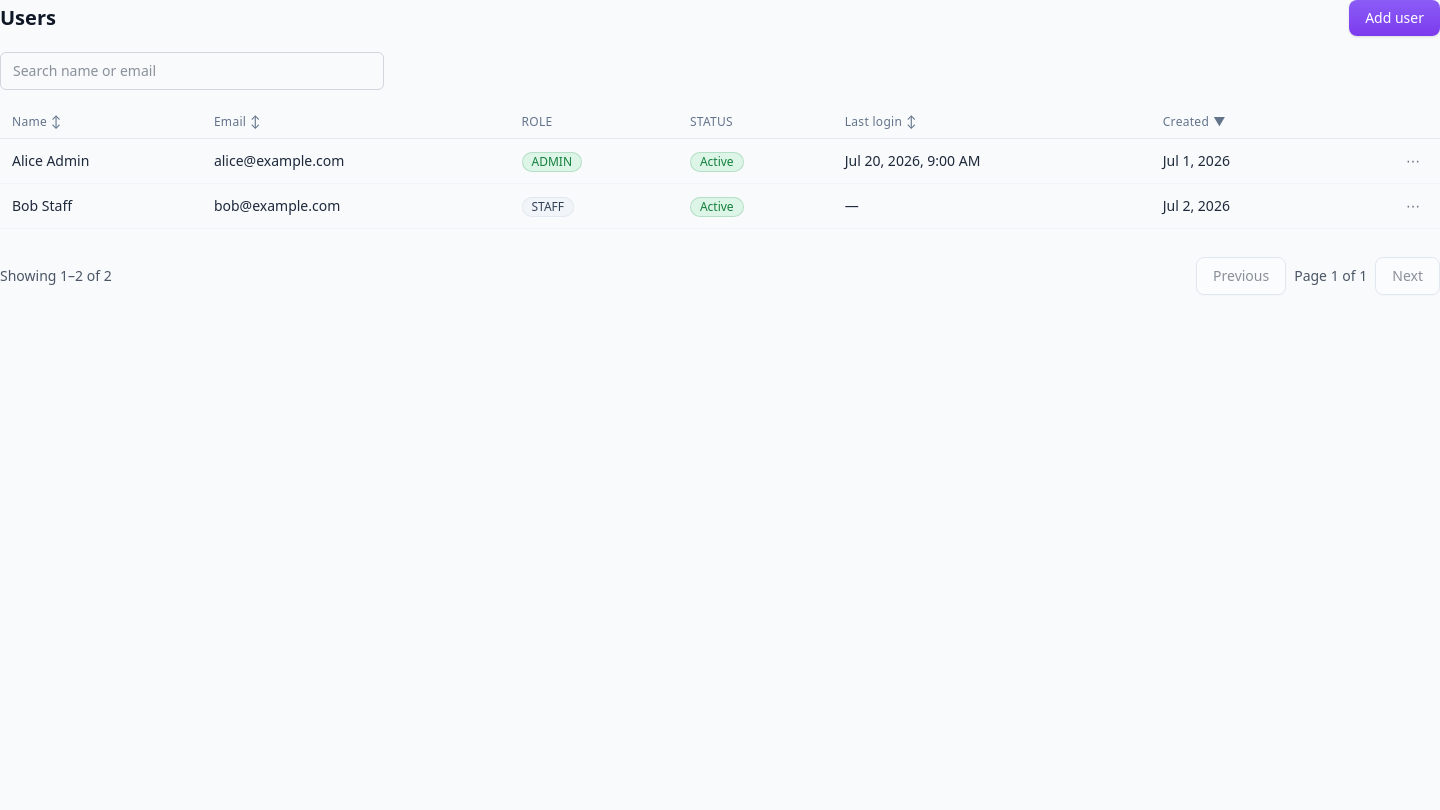
Test case: Users page (UC-04) › maps DUPLICATE_EMAIL to an inline field error, preserving input (EC-28)
Click the button "Add user" at [1395, 18], box [1349,0,1439,36]
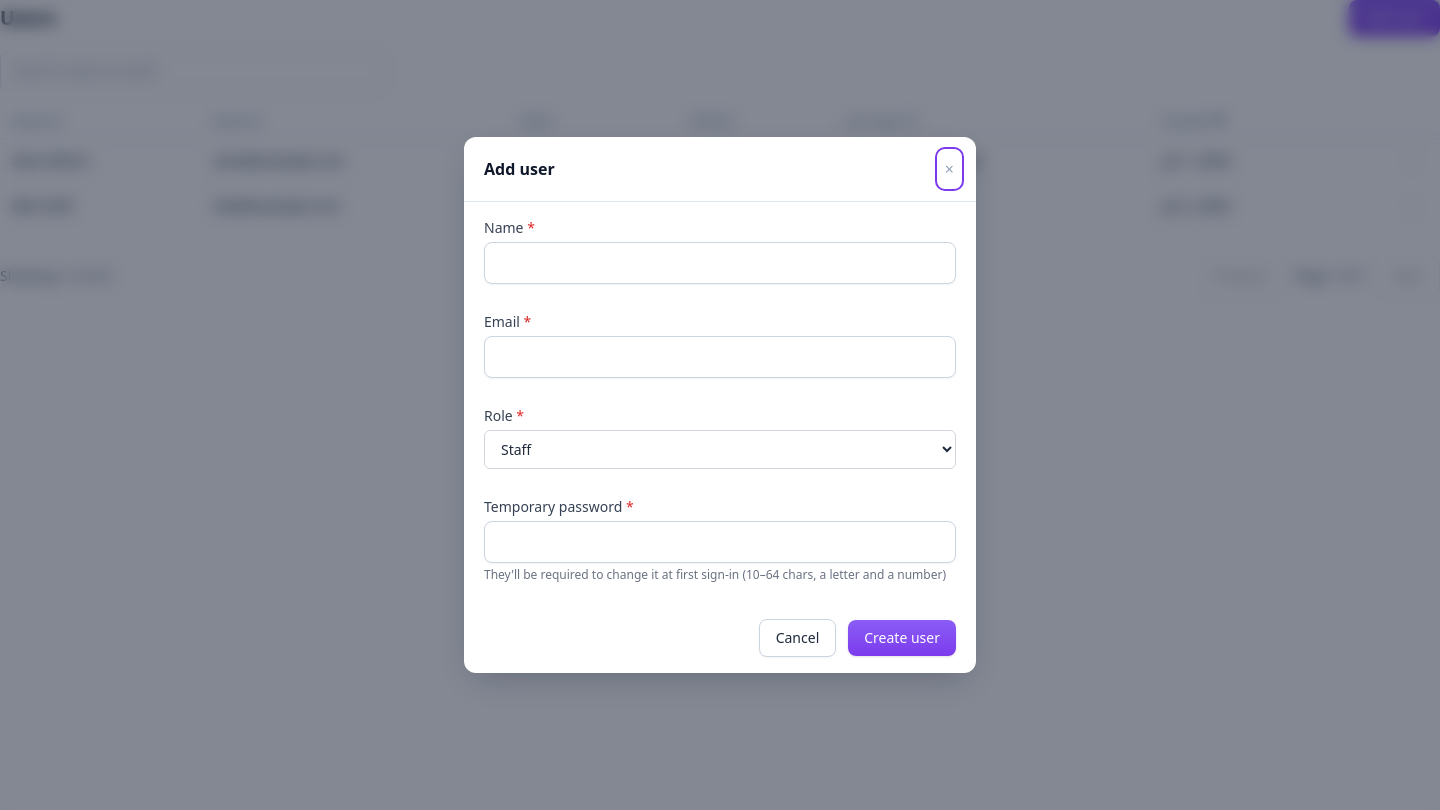
Type "Twin" into the field labelled "Name *" at [720, 263], box [484,242,956,284]
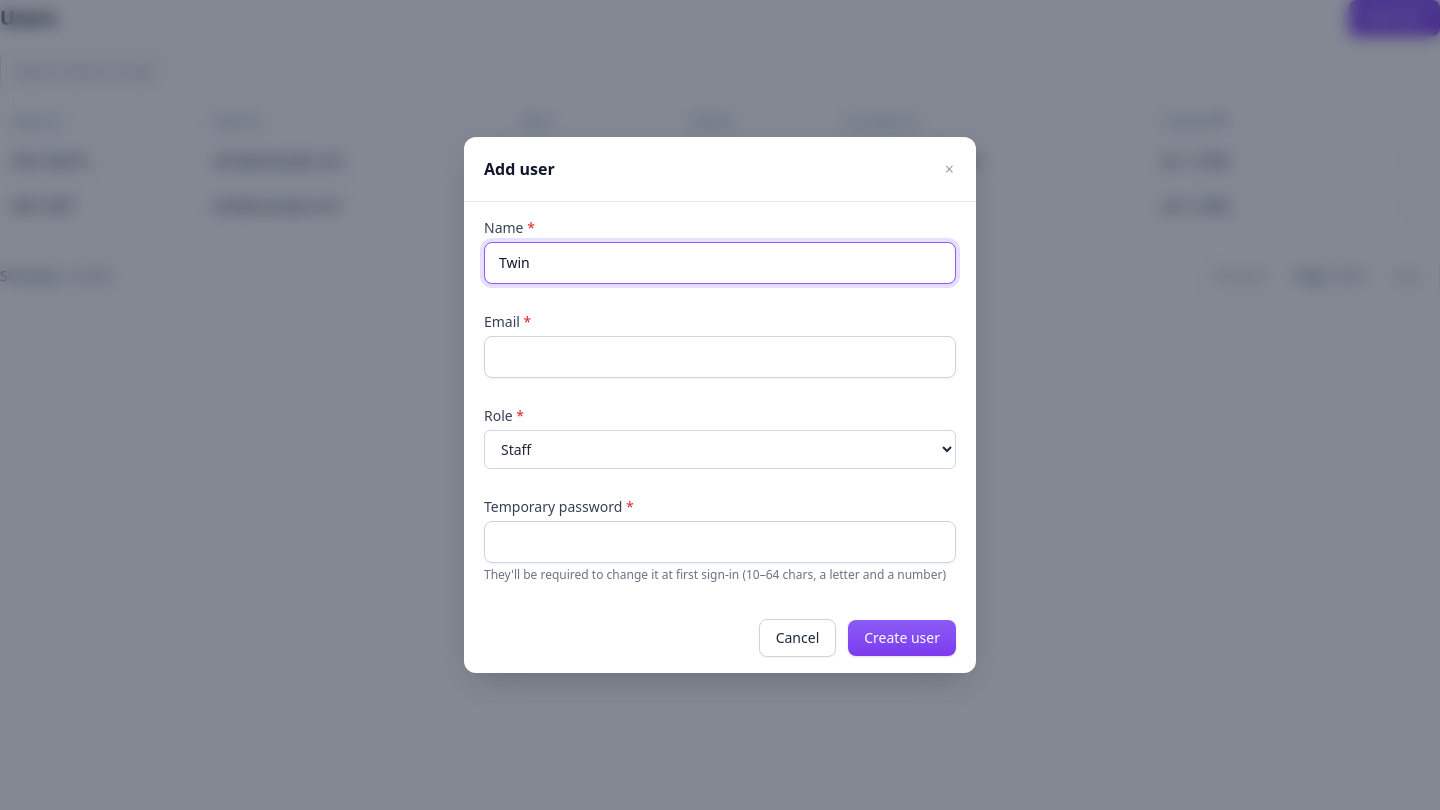
Type "alice@example.com" into the field labelled "Email *" at [720, 357], box [484,336,956,378]
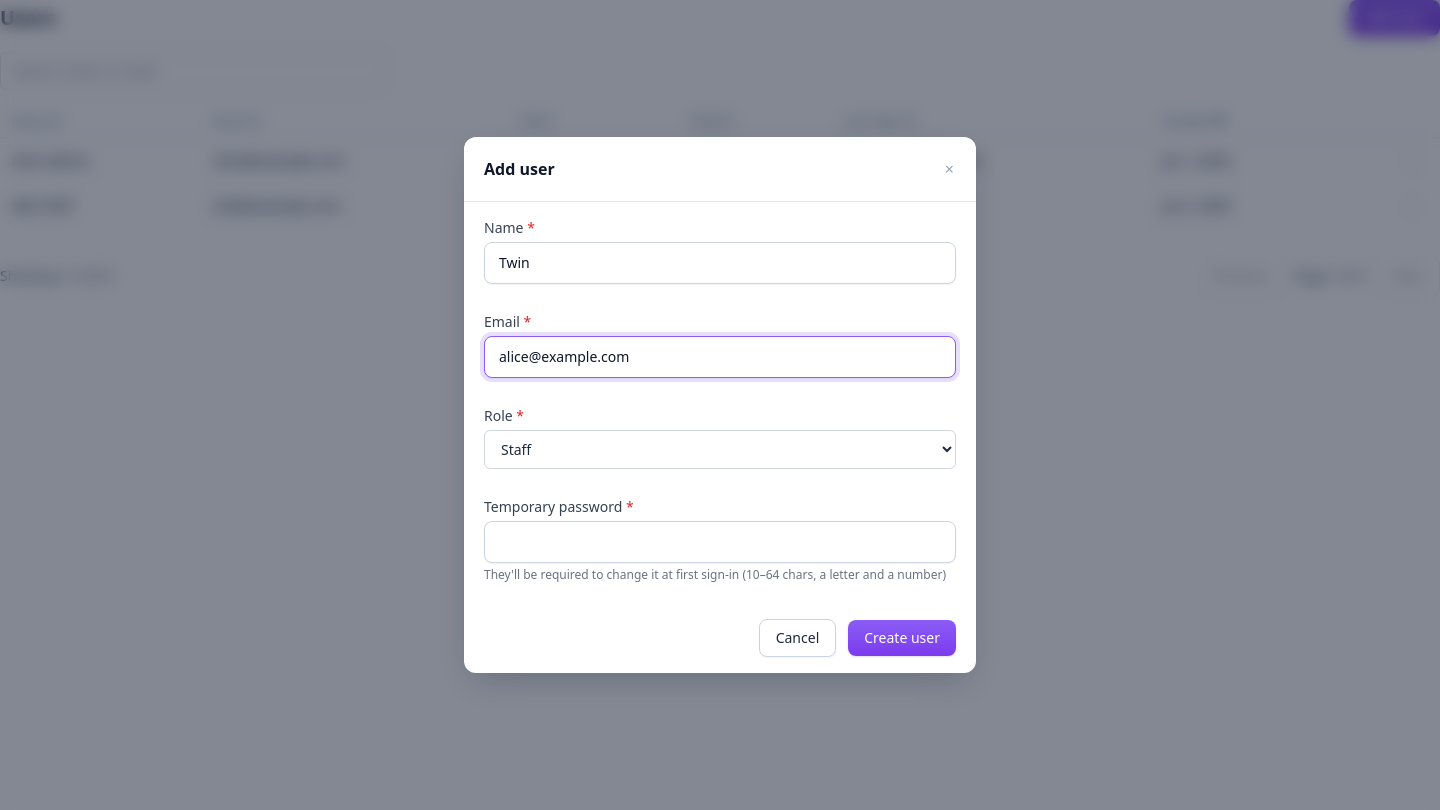
Type "temp-passw0rd-1" into the field labelled "Temporary password *" at [720, 542], box [484,521,956,563]
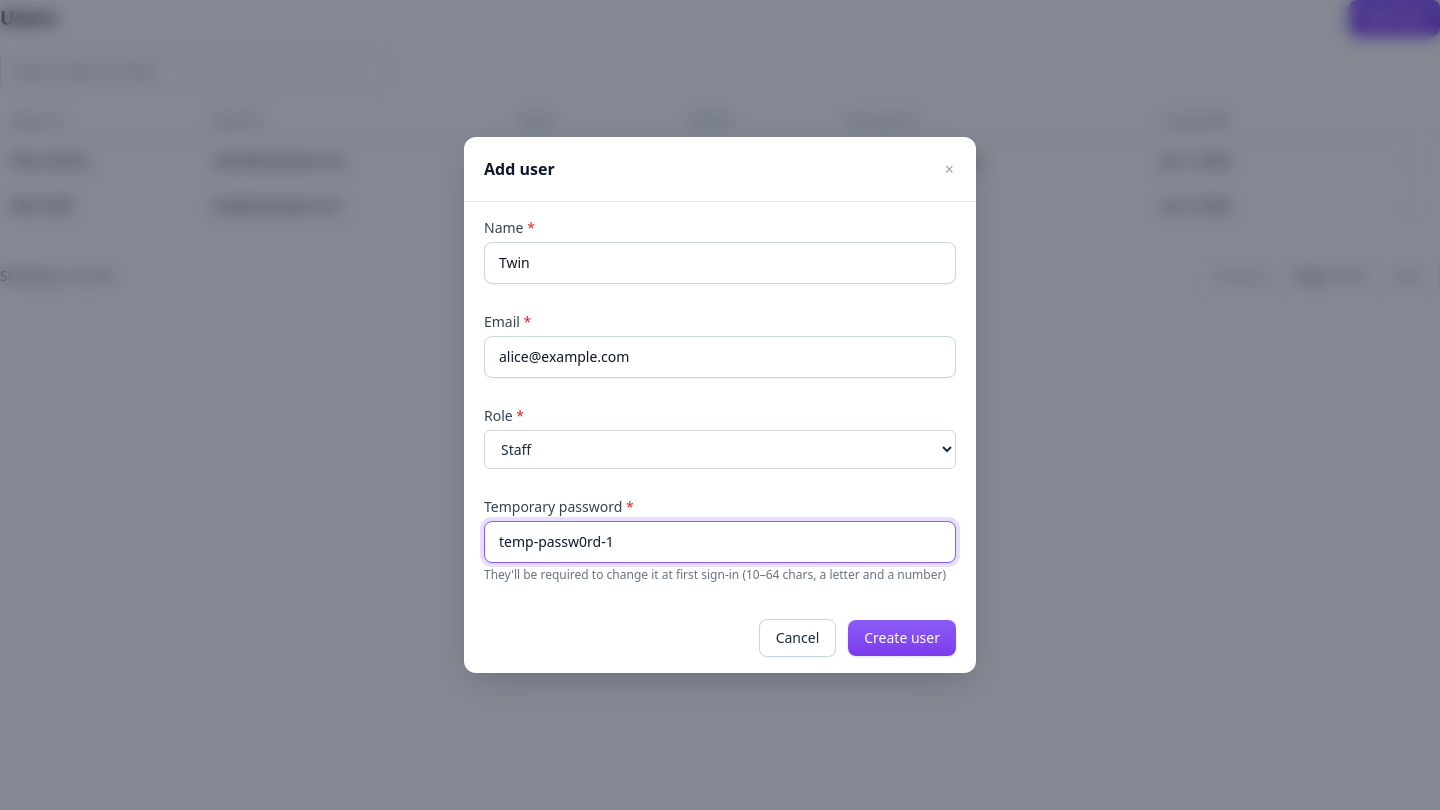
Click the button "Create user" at [902, 638], box [848,620,956,656]
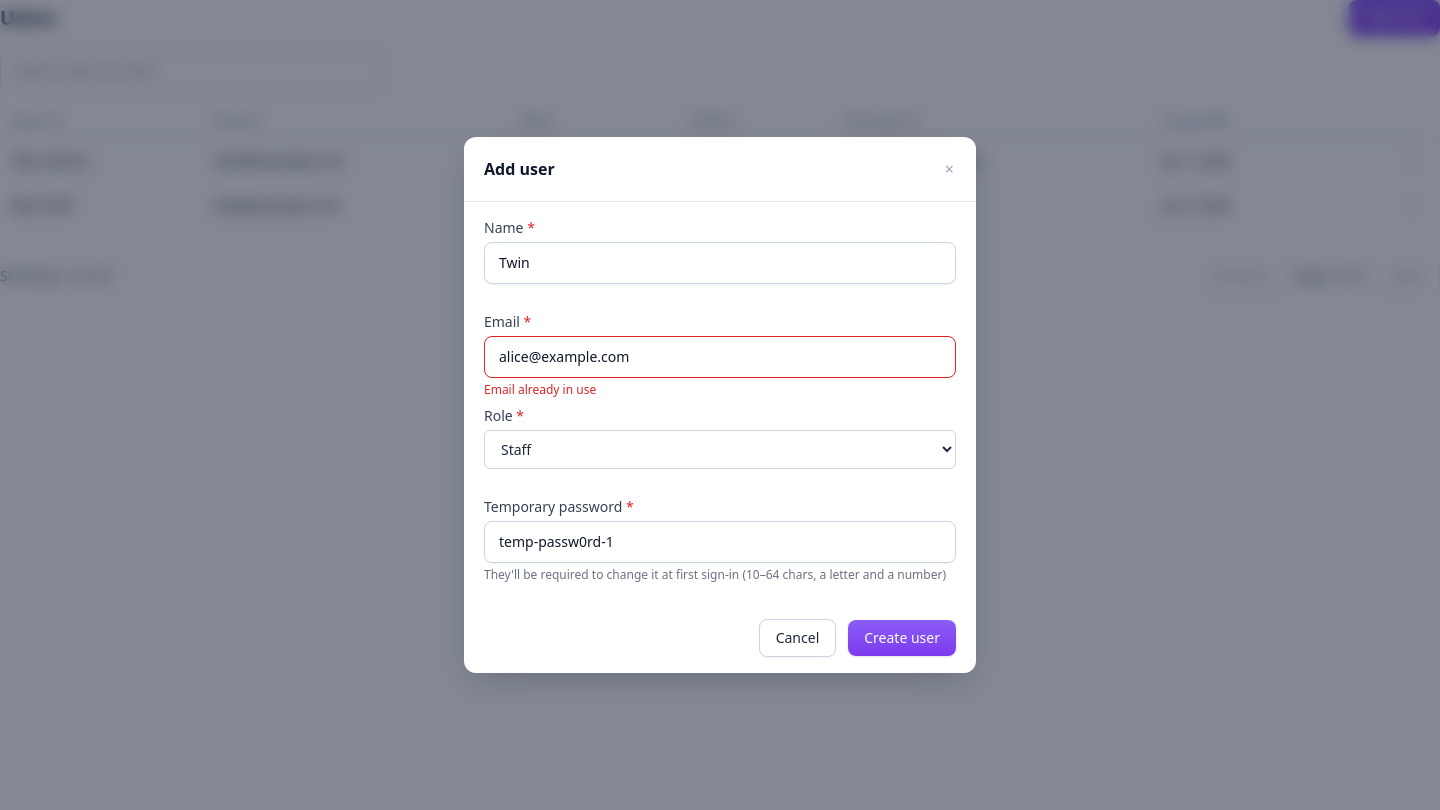
Expected: the text "Email already in use" is shown, [484,381,596,398]
